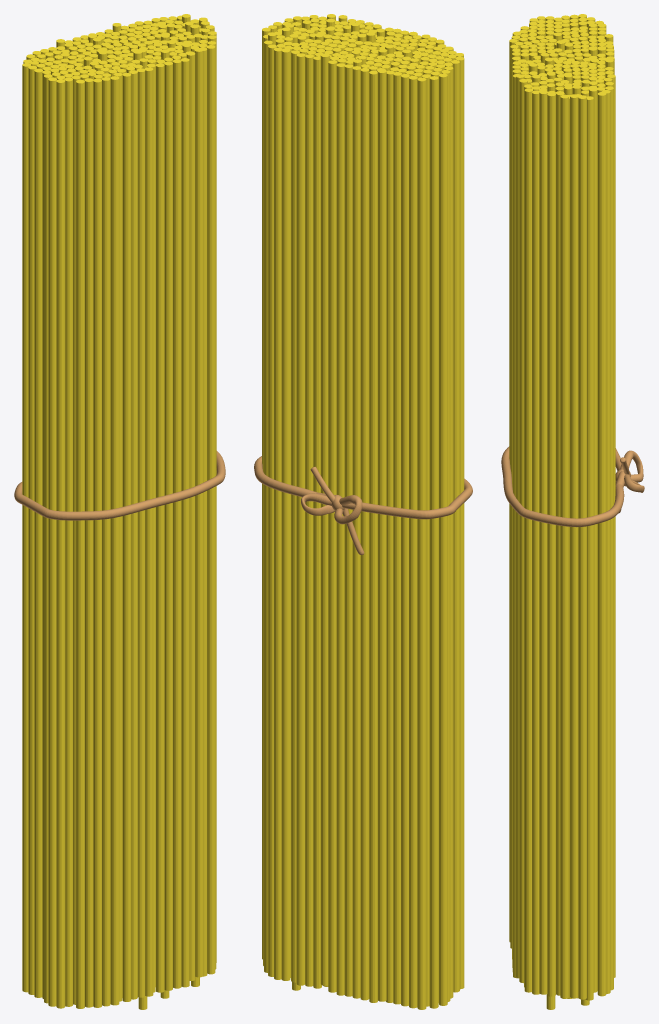
Rendered from spaghettiUncookedNoodle.fbx.
3 renders of one model, left to right at view 1: azimuth 30°, elevation 25°; view 2: azimuth 150°, elevation 25°; view 3: azimuth 270°, elevation 25°, orthographic. The views are drawn at different scales.
Parts seen in each view (by area): view 1: cookedNoodles; view 2: cookedNoodles; view 3: cookedNoodles.
Part boxes in pixels (x1,y1,x2,y2): cookedNoodles: (14,14,225,1009); cookedNoodles: (254,14,472,1009); cookedNoodles: (501,14,644,1009).
Bounding box in the file's own units: 64.66 × 296 × 41.54.
